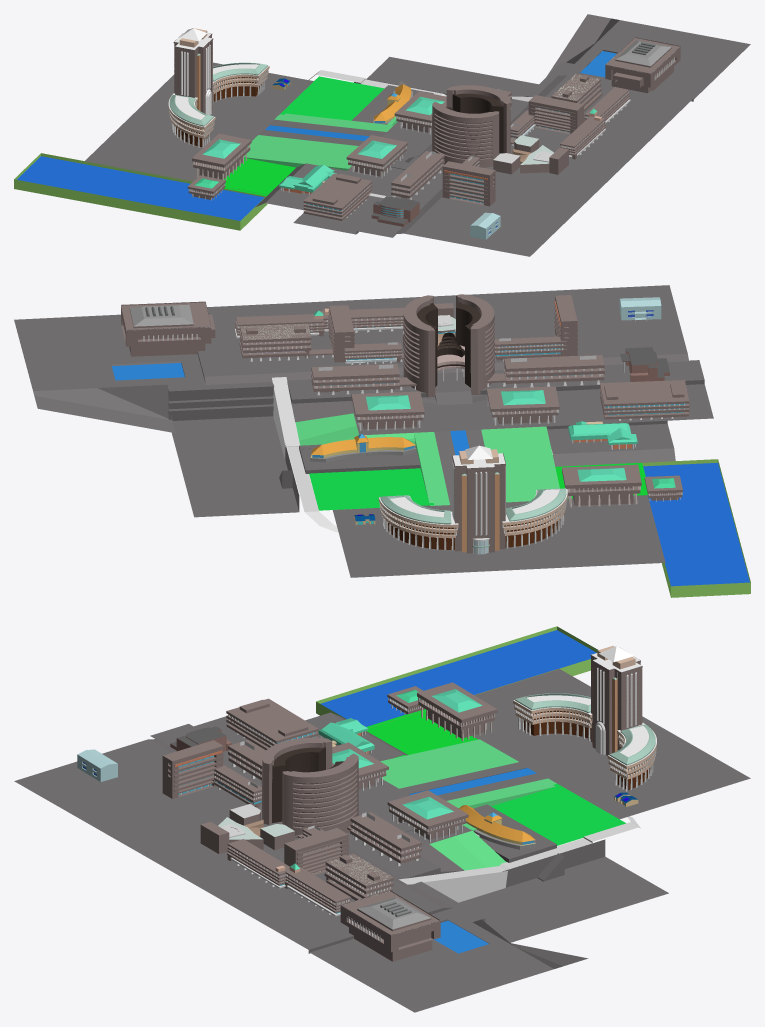
3 renders of one model, top to bottom at view 1: azimuth 30°, elevation 25°; view 2: azimuth 150°, elevation 25°; view 3: azimuth 270°, elevation 25°, orthographic. The views are drawn at different scales.
Visible parts, largest first — view 1: 地面２, 体育館・グラウンド, 池, 地面５, Cube.017, kennkyuutou1, 地面１, Plane, 体育館, 地面８, Cube.461, Cube.274 (+17 smaller); view 2: 体育館・グラウンド, 地面２, 地面５, Plane, Cube.017, 池, kennkyuutou1, 地面１, 体育館, 地面８, 地面６, Cube.299 (+17 smaller); view 3: 体育館・グラウンド, 地面２, 地面５, Cube.017, 池, kennkyuutou1, 地面１, Plane, 体育館, 地面８, Cube.274, Cube.327 (+18 smaller).
Part boxes in pixels (x1=…): 地面２: x1=395, y1=75, x2=693, y2=256; 体育館・グラウンド: x1=354, y1=14, x2=750, y2=100; 池: x1=14, y1=153, x2=267, y2=230; 地面５: x1=84, y1=62, x2=313, y2=181; Cube.017: x1=168, y1=28, x2=269, y2=148; kennkyuutou1: x1=432, y1=85, x2=510, y2=167; 地面１: x1=244, y1=113, x2=397, y2=170; Plane: x1=293, y1=99, x2=528, y2=237; 体育館: x1=605, y1=37, x2=680, y2=93; 地面８: x1=280, y1=76, x2=384, y2=120; Cube.461: x1=510, y1=95, x2=583, y2=145; Cube.274: x1=442, y1=156, x2=495, y2=206; 体育館・グラウンド: x1=14, y1=314, x2=299, y2=517; 地面２: x1=197, y1=285, x2=688, y2=384; 地面５: x1=332, y1=495, x2=665, y2=577; Plane: x1=287, y1=360, x2=713, y2=445; Cube.017: x1=378, y1=445, x2=567, y2=554; 池: x1=641, y1=459, x2=750, y2=597; kennkyuutou1: x1=403, y1=294, x2=494, y2=396; 地面１: x1=366, y1=426, x2=559, y2=505; 体育館: x1=121, y1=301, x2=215, y2=356; 地面８: x1=309, y1=468, x2=433, y2=510; 地面６: x1=546, y1=420, x2=675, y2=466; Cube.299: x1=562, y1=464, x2=641, y2=507; 体育館・グラウンド: x1=310, y1=839, x2=668, y2=1012; 地面２: x1=14, y1=739, x2=452, y2=953; 地面５: x1=472, y1=668, x2=750, y2=819; Cube.017: x1=513, y1=646, x2=656, y2=791; 池: x1=316, y1=626, x2=598, y2=727; kennkyuutou1: x1=262, y1=737, x2=358, y2=838; 地面１: x1=380, y1=739, x2=556, y2=831; Plane: x1=150, y1=716, x2=506, y2=878; 体育館: x1=340, y1=890, x2=440, y2=961; 地面８: x1=491, y1=783, x2=625, y2=845; Cube.274: x1=162, y1=740, x2=261, y2=807; Cube.327: x1=227, y1=839, x2=351, y2=916.
Size of the model in its own units: 1326 by 211 by 1028.
